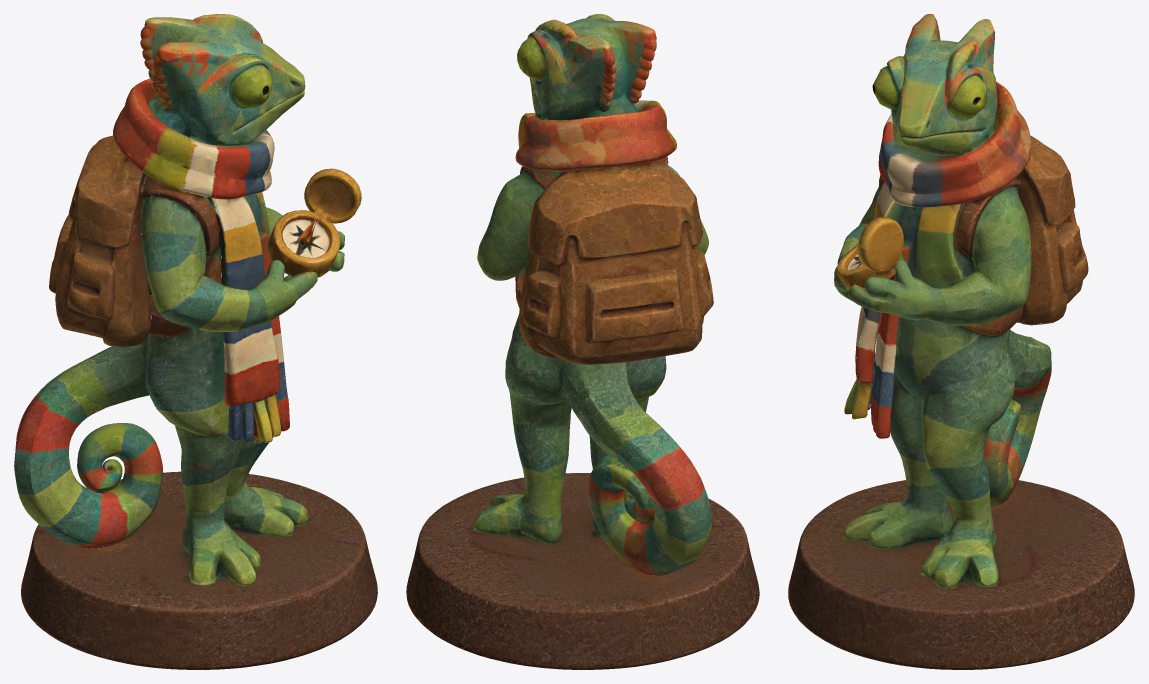
The model's file is web.glb.
3 views of the same model, side by side, from view 1: azimuth 30°, elevation 25°; view 2: azimuth 150°, elevation 25°; view 3: azimuth 270°, elevation 25° (orthographic). The views are drawn at different scales.
Parts seen in each view (by area): view 1: chameleon; view 2: chameleon; view 3: chameleon.
Boxes of the visible parts, x1,y1,x2,y2 form: chameleon: (14, 14, 377, 669); chameleon: (406, 14, 759, 669); chameleon: (788, 14, 1134, 669).
Bounding box in the file's own units: 0.5605 × 1 × 0.5581.
Materials: 1 (1 with a texture image).
